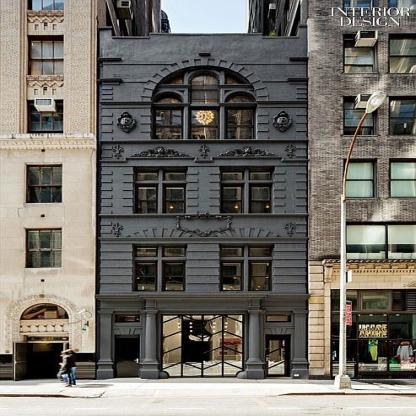Building Outline: (95, 26, 308, 379)
Cornice: (140, 58, 270, 102), (209, 228, 284, 238), (125, 228, 199, 238), (216, 146, 279, 156), (129, 146, 192, 156)
Deco: (175, 212, 232, 237), (272, 110, 292, 131), (117, 111, 136, 133), (285, 145, 297, 160), (285, 224, 297, 239), (112, 145, 124, 160), (112, 223, 124, 238)
Door: (266, 339, 289, 378), (116, 339, 139, 378)
Facade: (96, 27, 308, 380)
Floor Slab: (100, 292, 307, 299), (100, 142, 307, 148), (100, 215, 307, 221)
Glass Wall: (160, 315, 243, 377)
Pillar: (139, 310, 159, 379), (246, 310, 265, 379), (290, 310, 308, 379), (96, 311, 114, 379)
Window: (188, 70, 219, 103), (156, 111, 182, 140), (192, 111, 218, 140), (228, 111, 253, 140), (165, 263, 183, 290), (252, 187, 270, 213), (166, 187, 184, 213), (138, 187, 156, 213), (252, 263, 269, 290), (224, 263, 241, 290), (138, 263, 155, 290), (224, 187, 241, 213), (224, 91, 256, 102), (153, 92, 184, 103), (224, 72, 248, 84), (160, 73, 183, 84), (222, 172, 242, 180), (165, 172, 185, 180), (137, 172, 157, 180), (222, 248, 242, 256), (164, 248, 184, 256), (137, 248, 157, 256), (251, 172, 270, 180), (250, 248, 269, 256), (117, 316, 139, 321), (267, 316, 289, 321)
